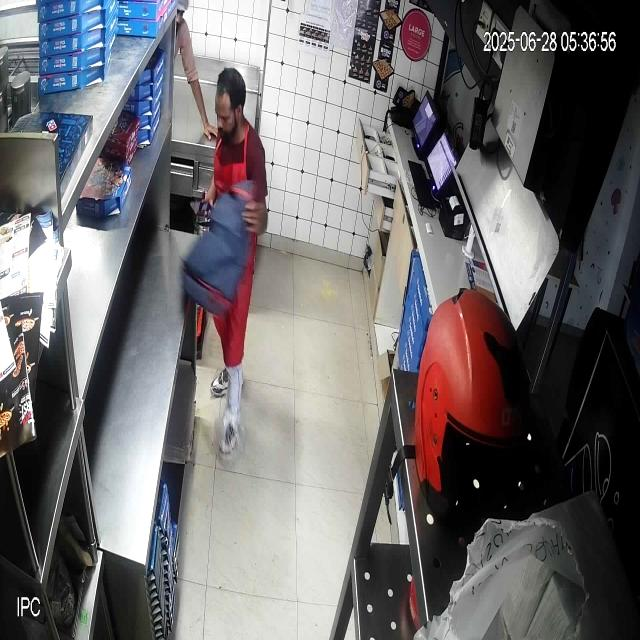helmet: (412, 283, 532, 525)
